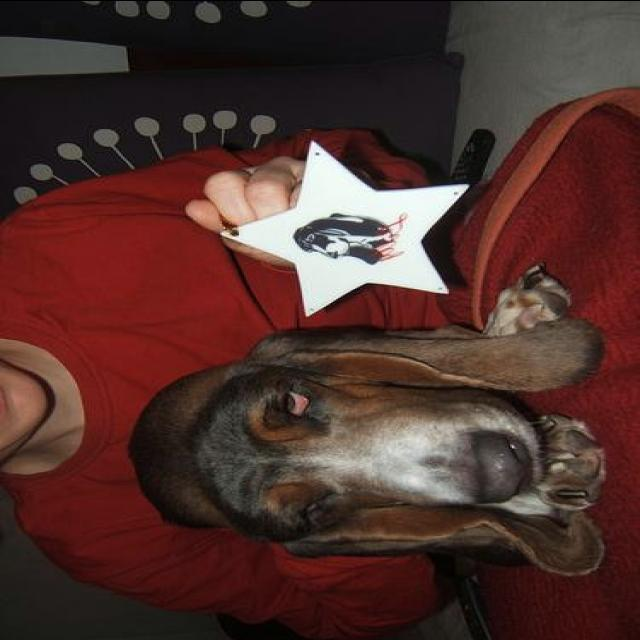basset: (123, 260, 611, 578)
